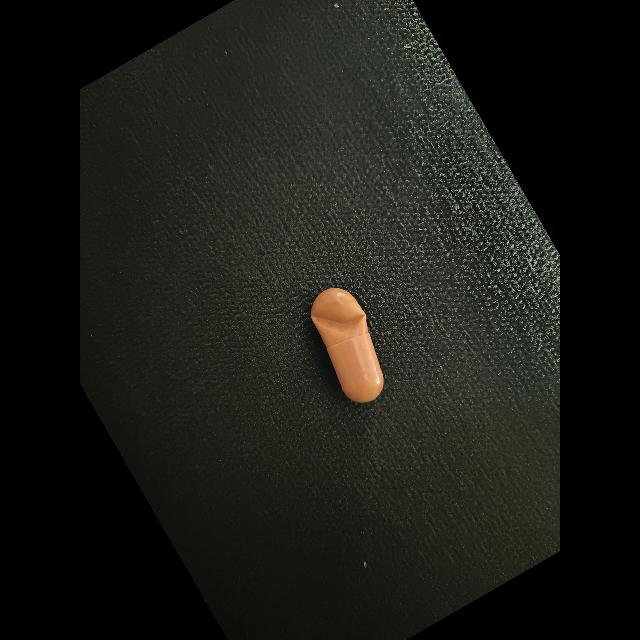Defective Capsule: (311, 311, 366, 332)
